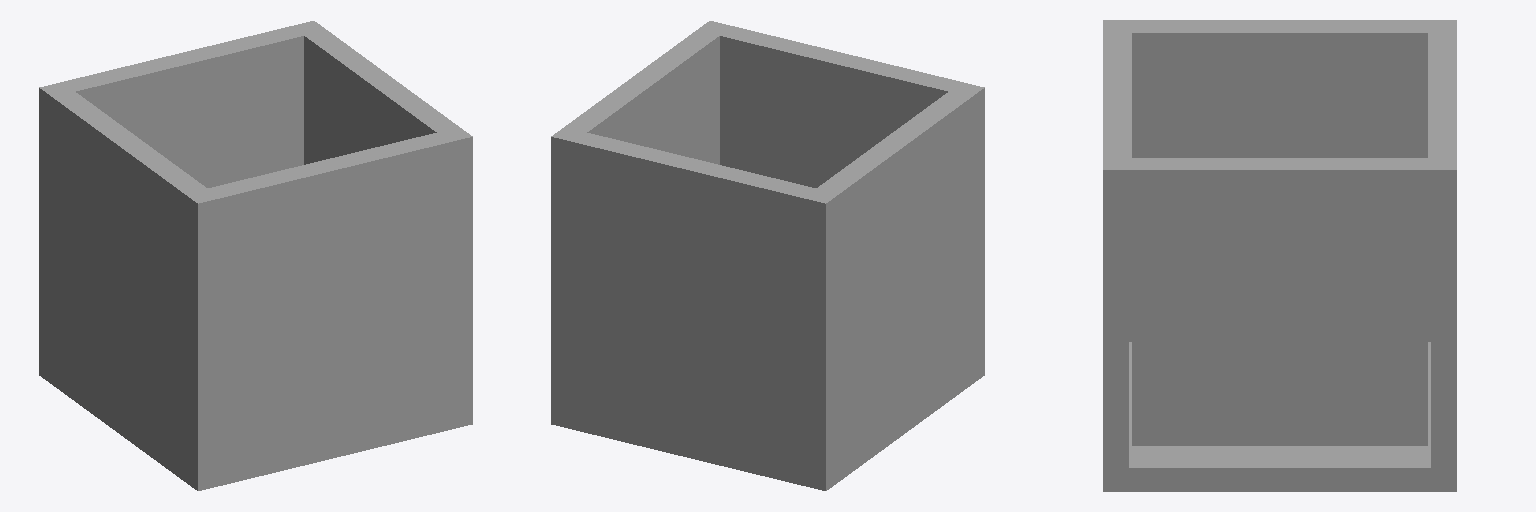
robot.urdf — box_robot:
<?xml version="1.0" ?>
<robot name="box_robot">

  <!-- Jediná linka, představuje celou krabici -->
  <link name="box_link">
    <!-- Vizuální reprezentace -->
    <visual>
      <geometry>
        <mesh filename="box.stl" scale="1 1 1"/>
      </geometry>
      <material name="gray">
        <color rgba="0.7 0.7 0.7 0.3"/>
      </material>
    </visual>

    <!-- Kolizní geometrie -->
    <collision>
      <geometry>
        <mesh filename="box.stl" scale="1 1 1"/>
      </geometry>
    </collision>

    <!-- Inertní vlastnosti (můžeš upravit hmotnost a tvar) -->
    <inertial>
      <mass value="1.0"/>
      <inertia
        ixx="0.1" ixy="0.0" ixz="0.0"
        iyy="0.1" iyz="0.0"
        izz="0.1"/>
      <origin xyz="0 0 0" rpy="0 0 0"/>
    </inertial>
  </link>

</robot>

--- Render facts (derived) ---
3 views of the same robot in one strip: view 1: azimuth 30°, elevation 25°; view 2: azimuth 150°, elevation 25°; view 3: azimuth 270°, elevation 25° (orthographic).
Model box_robot with 1 links and 0 joints (none), rooted at box_link, posed all joints at 0.
Links seen in each view (by area): view 1: box_link; view 2: box_link; view 3: box_link.
Boxes of the visible links, bbox=[...] form: box_link: bbox=[39, 21, 472, 490]; box_link: bbox=[551, 21, 984, 490]; box_link: bbox=[1103, 20, 1456, 491].
Size in the robot's own frame: 2 by 2 by 2 metres.
Meshes: 1 distinct files referenced, 1 mesh visuals loaded (1 binary STL).
